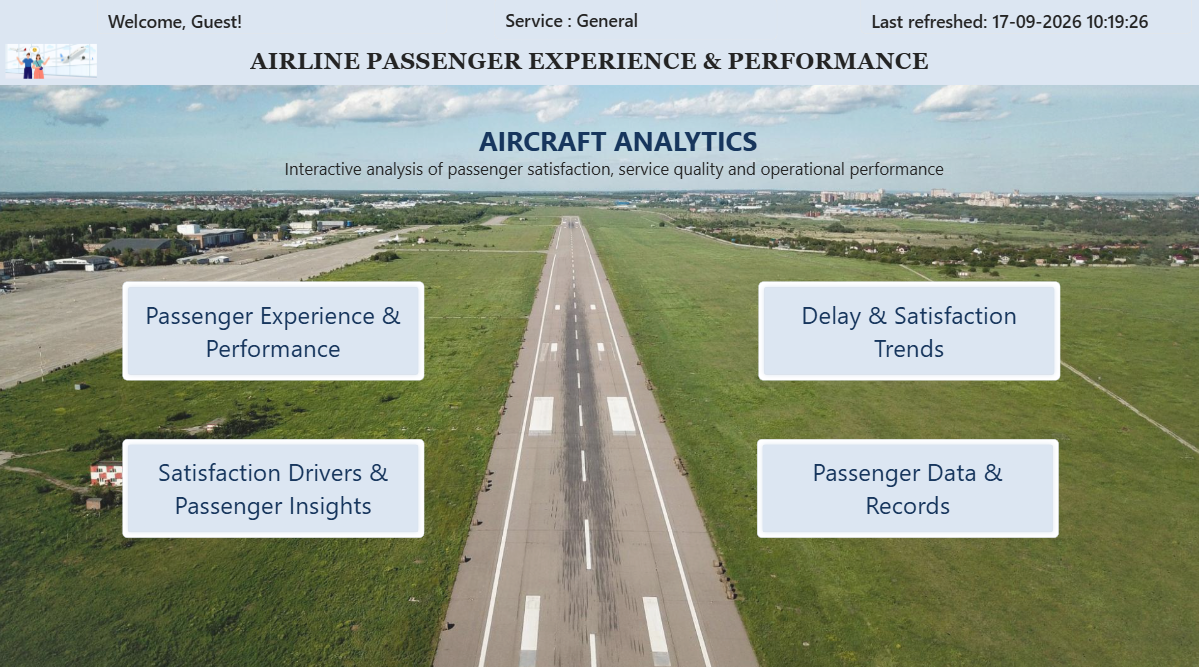

The page's visual inventory and layout, read from the dashboard file:
{"tool":"powerbi","page":{"name":"Home","canvas":[1920,1080],"ordinal":0},"visuals":[{"type":"textbox","box":[740,206.7,502.5,85],"z":0},{"type":"shape","box":[0,0,1920.7,147.9],"z":1000},{"type":"textbox","box":[405.1,88.3,1232.5,60],"z":2000},{"type":"actionButton","box":[1213.3,460,480,157.5],"z":3000},{"type":"actionButton","box":[1212.5,710,480,157.5],"z":4000},{"type":"actionButton","box":[202.5,710,480,157.5],"z":5000},{"type":"actionButton","box":[202.5,460,480,157.5],"z":6000},{"type":"textbox","box":[459.5,262.2,1102.5,55],"z":7000},{"type":"image","box":[17.5,75,145,72.5],"z":8000},{"type":"cardVisual","fields":{"Data":["Airline.Last Refreshed"]},"box":[1376.7,3.3,527.2,64.9],"z":9000},{"type":"cardVisual","fields":{"Data":["Airline.Welcome Message"]},"box":[162.2,0,557.5,67.5],"z":10000},{"type":"cardVisual","title":" ","fields":{"Data":["Airline.Login Service Display"]},"box":[793.3,10,450,66.7],"z":11000}]}

Visuals, with their boxes in screenshot pixels (x1, y1, x2, y2), scaled from the page's 1920x1080 canvas onto the 1199x667 screenshot:
textbox: pyautogui.locateOnScreen(462, 128, 776, 180)
shape: pyautogui.locateOnScreen(0, 0, 1198, 91)
textbox: pyautogui.locateOnScreen(253, 55, 1023, 92)
actionButton: pyautogui.locateOnScreen(758, 284, 1057, 381)
actionButton: pyautogui.locateOnScreen(757, 438, 1057, 536)
actionButton: pyautogui.locateOnScreen(126, 438, 426, 536)
actionButton: pyautogui.locateOnScreen(126, 284, 426, 381)
textbox: pyautogui.locateOnScreen(287, 162, 975, 196)
image: pyautogui.locateOnScreen(11, 46, 101, 91)
cardVisual - Airline.Last Refreshed: pyautogui.locateOnScreen(860, 2, 1189, 42)
cardVisual - Airline.Welcome Message: pyautogui.locateOnScreen(101, 0, 449, 42)
" " cardVisual: pyautogui.locateOnScreen(495, 6, 776, 47)
